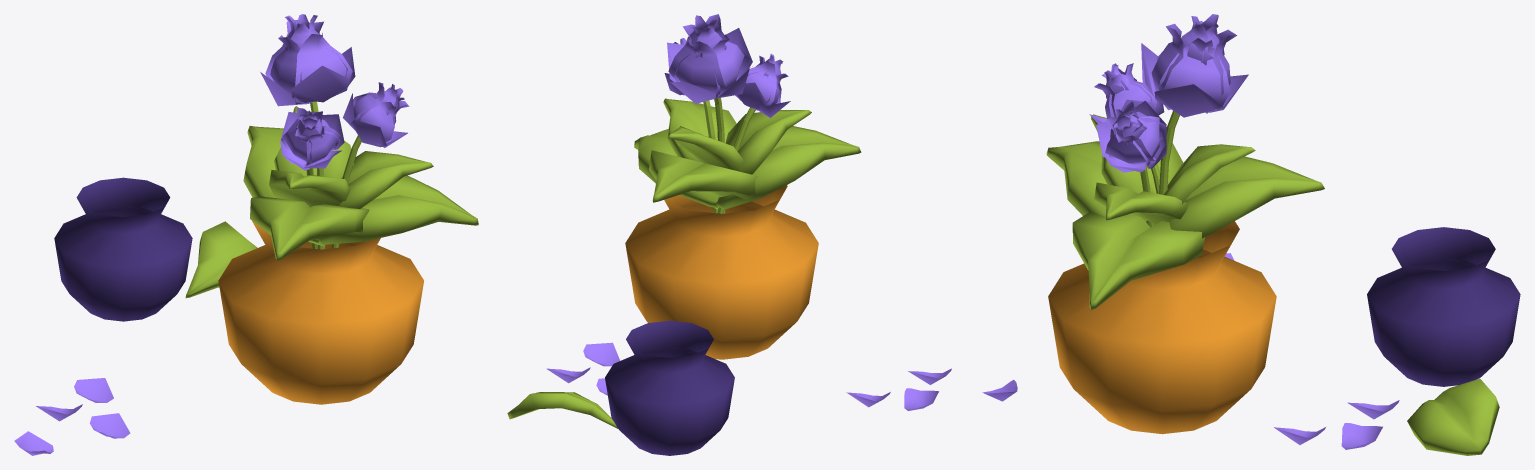
Rendered from flowers-original-draco.glb.
The picture shows the model from 3 angles, left to right: view 1: azimuth 30°, elevation 25°; view 2: azimuth 150°, elevation 25°; view 3: azimuth 270°, elevation 25°; orthographic projection. The views are drawn at different scales.
Visible parts, largest first — view 1: Circle, Circle.001, Plane.014, Plane.013, Plane.017, Plane.049, Plane.016, Plane, Plane.003, Plane.011, Plane.002, Plane.015 (+9 smaller); view 2: Circle, Circle.001, Plane.013, Plane, Plane.016, Plane.001, Plane.017, Plane.049, Plane.015, Plane.014, Plane.002, Plane.018 (+4 smaller); view 3: Circle, Circle.001, Plane.014, Plane, Plane.049, Plane.013, Plane.017, Plane.015, Plane.004, Plane.012, Plane.016, Plane.003 (+8 smaller).
Part boxes in pixels (box(x1,y1,x2,y2)): Circle: box(218, 221, 423, 404); Circle.001: box(54, 177, 192, 321); Plane.014: box(318, 175, 478, 244); Plane.013: box(250, 196, 369, 260); Plane.017: box(339, 151, 433, 208); Plane.049: box(185, 221, 257, 298); Plane.016: box(269, 170, 350, 207); Plane: box(243, 126, 325, 246); Plane.003: box(295, 33, 352, 104); Plane.011: box(291, 65, 349, 102); Plane.002: box(270, 35, 301, 93); Plane.015: box(274, 106, 353, 178); Circle: box(625, 185, 818, 359); Circle.001: box(605, 320, 734, 455); Plane.013: box(715, 126, 861, 209); Plane: box(649, 150, 758, 202); Plane.016: box(725, 110, 811, 174); Plane.001: box(668, 39, 725, 94); Plane.017: box(663, 98, 736, 161); Plane.049: box(507, 392, 618, 428); Plane.015: box(668, 126, 743, 171); Plane.014: box(634, 129, 718, 208); Plane.002: box(712, 34, 744, 99); Plane.018: box(745, 60, 776, 105); Circle: box(1048, 221, 1276, 434); Circle.001: box(1367, 227, 1520, 386); Plane.014: box(1072, 211, 1204, 310); Plane: box(1169, 156, 1324, 238); Plane.049: box(1407, 378, 1499, 455); Plane.013: box(1046, 141, 1106, 216); Plane.017: box(1094, 182, 1188, 225); Plane.015: box(1163, 144, 1255, 204); Plane.004: box(1159, 38, 1230, 108); Plane.012: box(1154, 84, 1221, 117); Plane.016: box(1091, 114, 1183, 193); Plane.003: box(1151, 23, 1183, 110).
Size of what is drawn, in the model's own units: 2.14 by 1.68 by 1.83.
